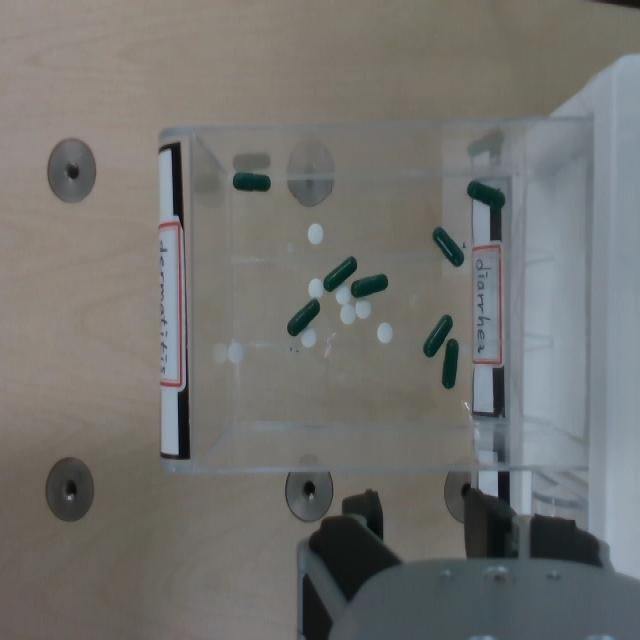ganakan_tab: (375, 321, 394, 346), (307, 222, 325, 246), (307, 276, 324, 300), (308, 277, 325, 300), (228, 341, 244, 364), (228, 340, 243, 364), (340, 303, 356, 325), (300, 327, 316, 348), (307, 223, 323, 244), (356, 297, 371, 319), (336, 284, 351, 305), (340, 303, 355, 324), (300, 328, 316, 347), (355, 300, 371, 319), (335, 284, 350, 304), (377, 323, 392, 343)
monodoxy_cap: (323, 253, 358, 292), (286, 297, 320, 337), (432, 225, 464, 267), (423, 313, 453, 357), (467, 179, 506, 210), (423, 315, 452, 356), (287, 299, 319, 336), (432, 227, 463, 265), (323, 256, 356, 291), (467, 180, 505, 209), (351, 271, 389, 298), (442, 337, 460, 388), (350, 273, 388, 297), (232, 171, 271, 194), (442, 339, 458, 388), (233, 172, 270, 191)
